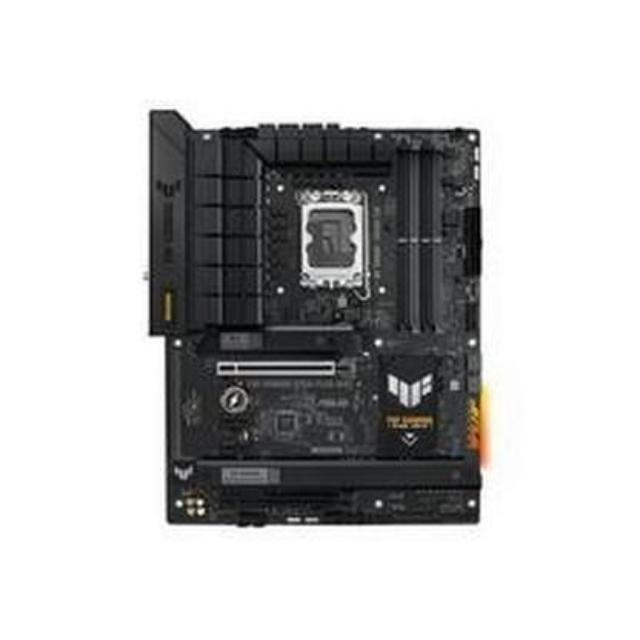Mainboard: (144, 102, 493, 534)
